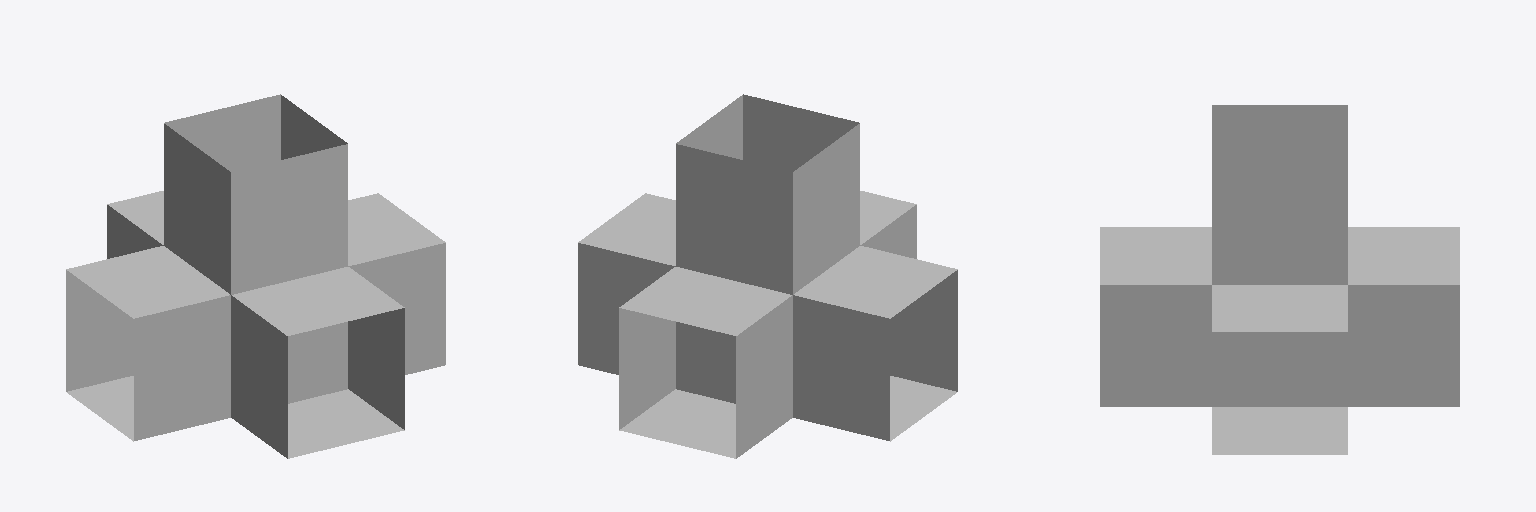
File: agriculture_huckleberry_bush_2.obj
The picture shows the model from 3 angles: view 1: azimuth 30°, elevation 25°; view 2: azimuth 150°, elevation 25°; view 3: azimuth 270°, elevation 25°; orthographic projection.
Parts seen in each view (by area): view 1: nodebox8; view 2: nodebox8; view 3: nodebox8.
Part boxes in pixels (x1,y1,x2,y2): nodebox8: (66,94,445,458); nodebox8: (578,94,957,458); nodebox8: (1100,105,1459,454).
Size of the model in its own units: 0.9 by 0.675 by 0.9.